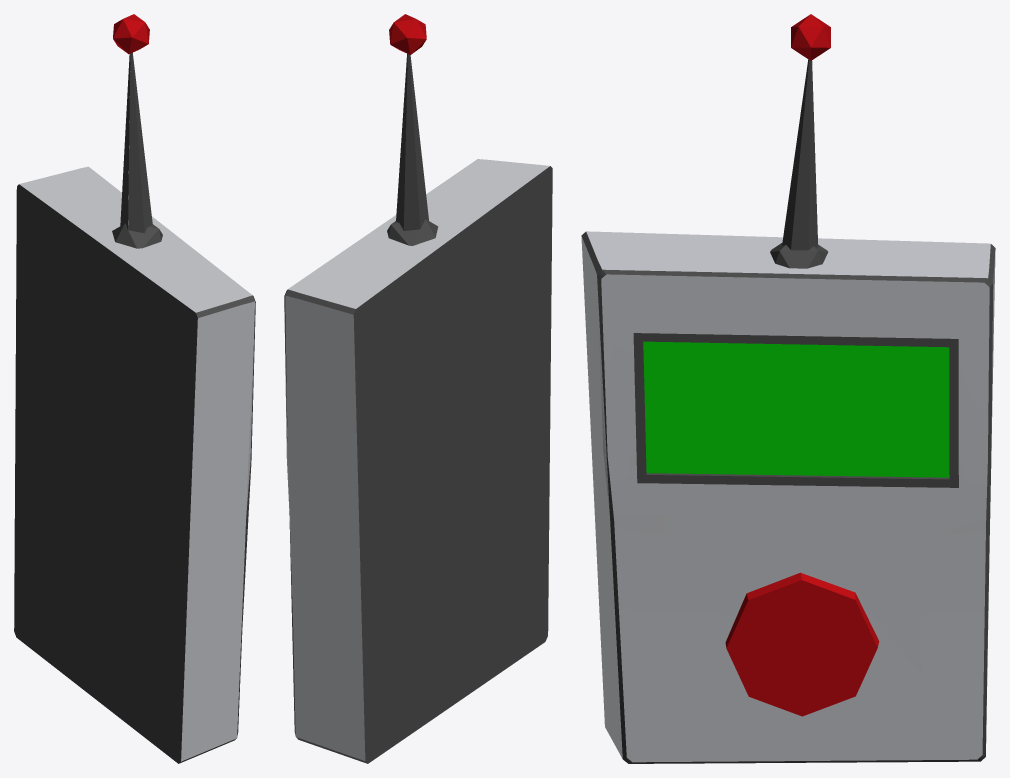
File: controller.fbx
The picture shows the model from 3 angles, left to right: view 1: azimuth 30°, elevation 25°; view 2: azimuth 150°, elevation 25°; view 3: azimuth 270°, elevation 25°; orthographic projection. The views are drawn at different scales.
Visible parts, largest first — view 1: Remote; view 2: Remote; view 3: Remote.
Boxes of the visible parts, left/top/right/bottom form: Remote: left=14, top=14, right=255, bottom=763; Remote: left=284, top=14, right=552, bottom=763; Remote: left=581, top=14, right=995, bottom=763.
Bounding box in the file's own units: 3 × 22.34 × 11.38.
